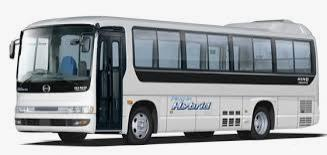bus: (10, 12, 318, 142)
